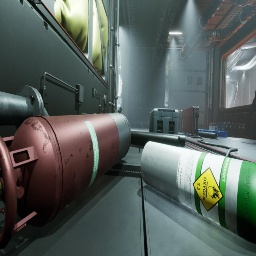0: (140, 141, 256, 244)
FireExtinguisher ]: (196, 14, 201, 24)
FirstAidBox ,: (178, 132, 182, 133)
NitrogenTank ,: (0, 112, 131, 250)
SafetySwitchPanel ,: (118, 74, 123, 98)
